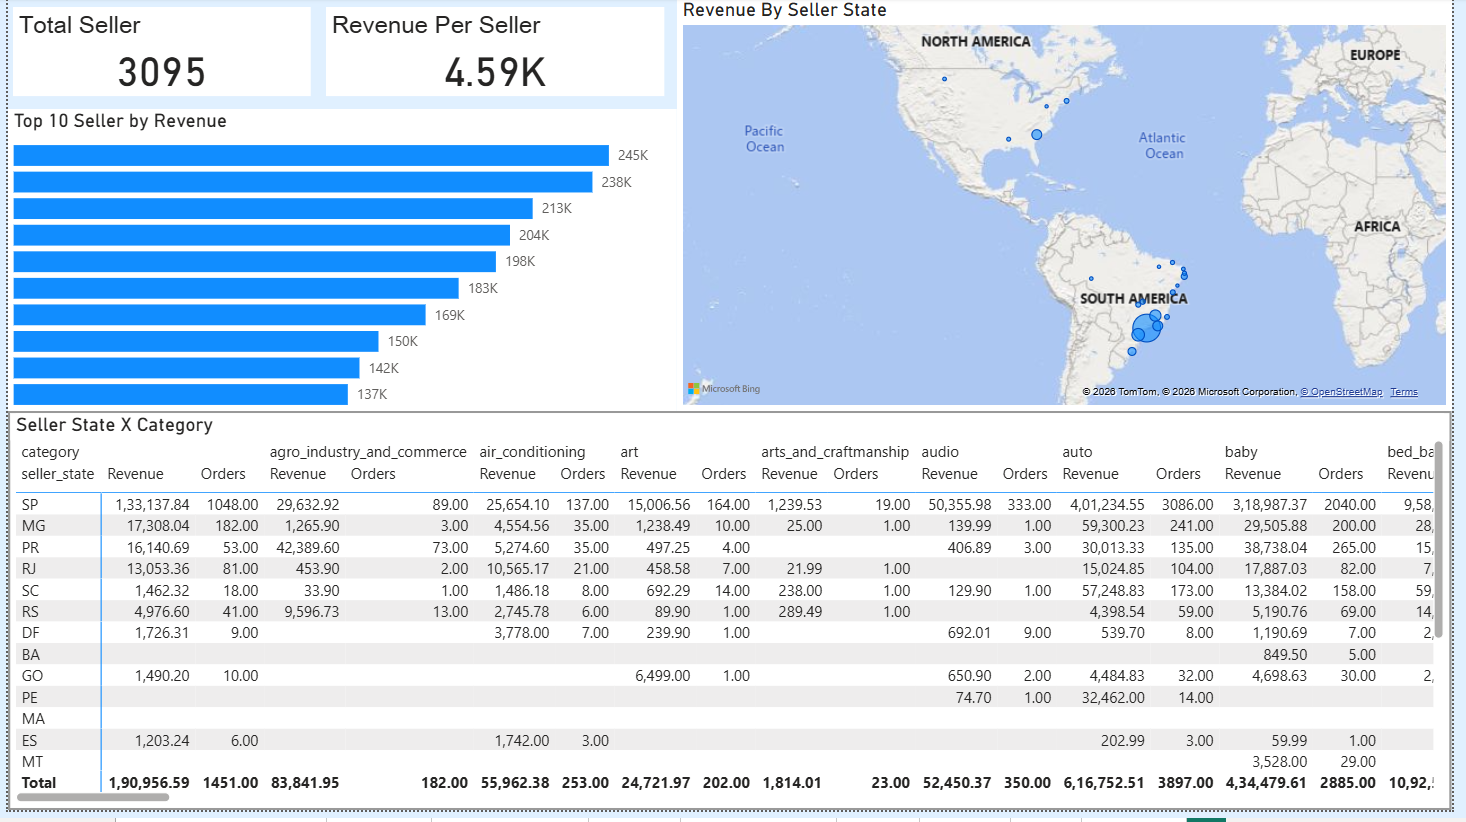

The page's visual inventory and layout, read from the dashboard file:
{"tool":"powerbi","page":{"name":"Seller ","canvas":[1280,720],"ordinal":7},"visuals":[{"type":"card","title":"Total Seller","fields":{"Values":["public bi_fact_sales.Sellers"]},"box":[4.4,8,264.2,78.9],"z":0},{"type":"card","title":"Revenue Per Seller","fields":{"Values":["public bi_fact_sales.Revenue per Seller"]},"box":[282,8,299.7,78.9],"z":1000},{"type":"map","title":"Revenue By Seller State","fields":{"Size":["public bi_fact_sales.Revenue"],"Category":["public bi_fact_sales.seller_state"]},"box":[593.2,0,687.2,366.2],"z":2000},{"type":"barChart","title":"Top 10 Seller by Revenue","fields":{"Category":["public bi_fact_sales.seller_id"],"Y":["public bi_fact_sales.Revenue"]},"box":[0,98.4,593.2,267.8],"z":3000},{"type":"pivotTable","title":"Seller State X Category","fields":{"Values":["public bi_fact_sales.Revenue","public bi_fact_sales.Orders"],"Rows":["public bi_fact_sales.seller_state"],"Columns":["public bi_fact_sales.category"]},"box":[0,366.4,1280,353.8],"z":4000}]}

Visuals, with their boxes in screenshot pixels (x1, y1, x2, y2), scaled from the page's 1280x720 canvas onto the 1466x822 screenshot:
"Total Seller" card: (x1=5, y1=9, x2=308, y2=99)
"Revenue Per Seller" card: (x1=323, y1=9, x2=666, y2=99)
"Revenue By Seller State" map: (x1=679, y1=0, x2=1465, y2=418)
"Top 10 Seller by Revenue" barChart: (x1=0, y1=112, x2=679, y2=418)
"Seller State X Category" pivotTable: (x1=0, y1=418, x2=1465, y2=821)
